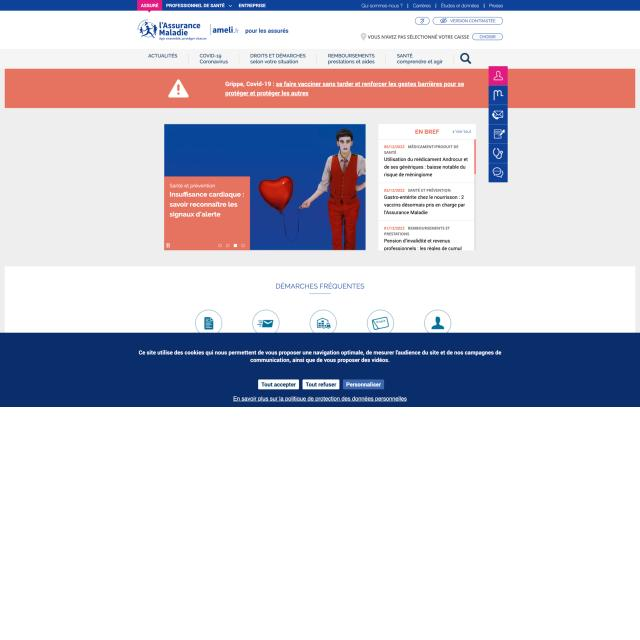logo: (136, 18, 208, 42)
navigation: (146, 50, 448, 68), (488, 65, 508, 183), (360, 1, 505, 9)
